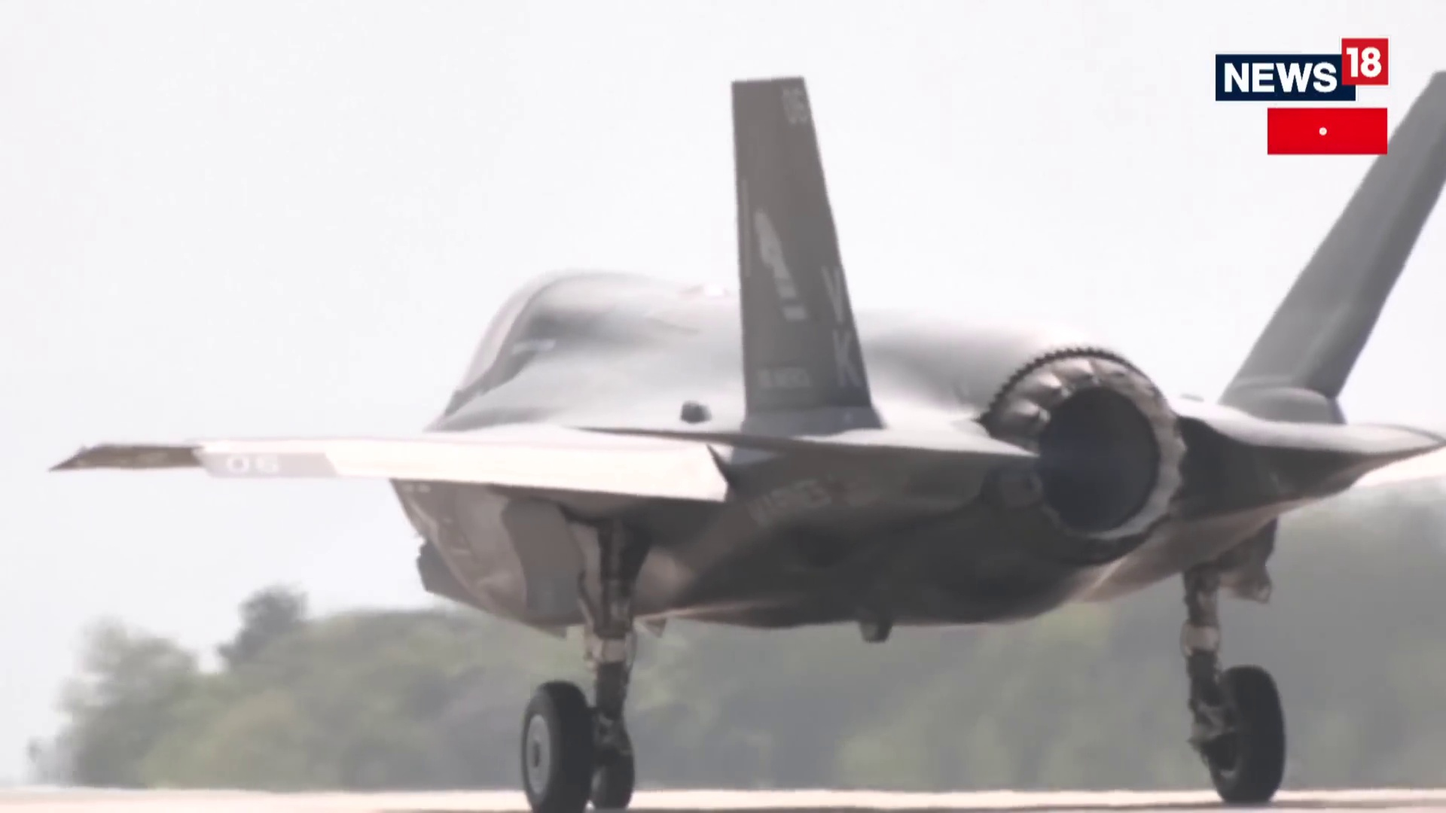F35: (45, 74, 1446, 813)
